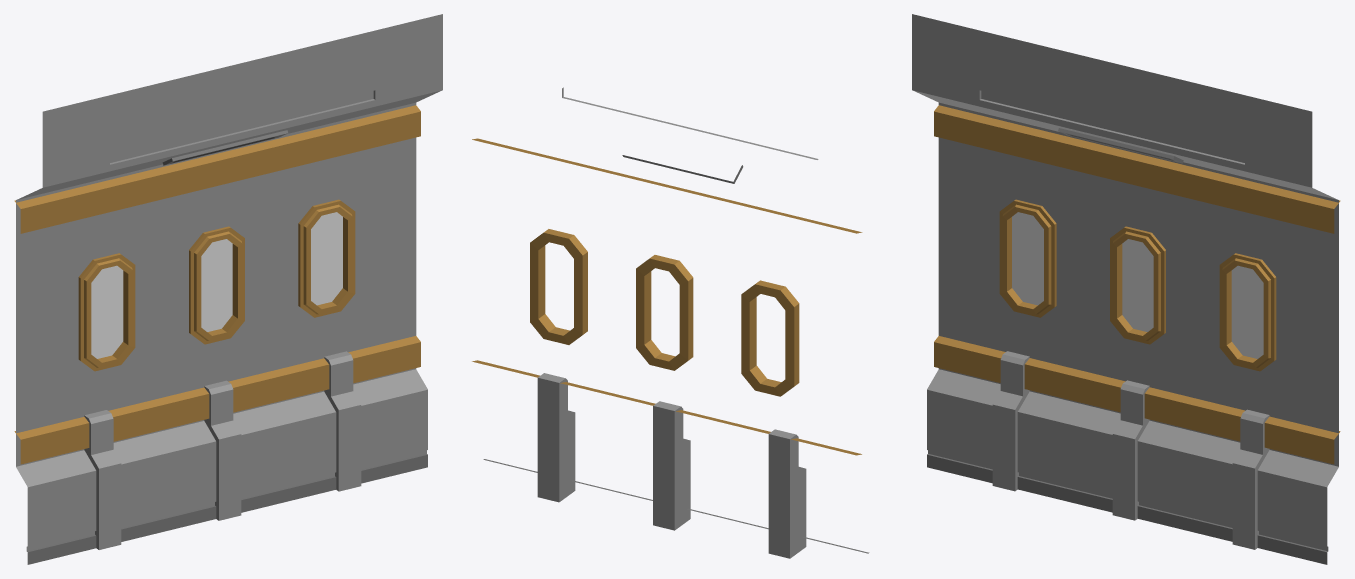
File: quaternius-modular-sci-fi-three-windows-wall-side-b.glb
3 views of the same model, side by side, from view 1: azimuth 30°, elevation 25°; view 2: azimuth 150°, elevation 25°; view 3: azimuth 330°, elevation 25° (orthographic). The views are drawn at different scales.
Parts seen in each view (by area): view 1: ThreeWindows_Wall_SideB; view 2: ThreeWindows_Wall_SideB; view 3: ThreeWindows_Wall_SideB.
Boxes of the visible parts, <box> form: ThreeWindows_Wall_SideB: <box>14,14,442,564</box>; ThreeWindows_Wall_SideB: <box>472,87,869,558</box>; ThreeWindows_Wall_SideB: <box>912,14,1340,564</box>.
Bounding box in the file's own units: 4 × 4.43 × 0.5263.
